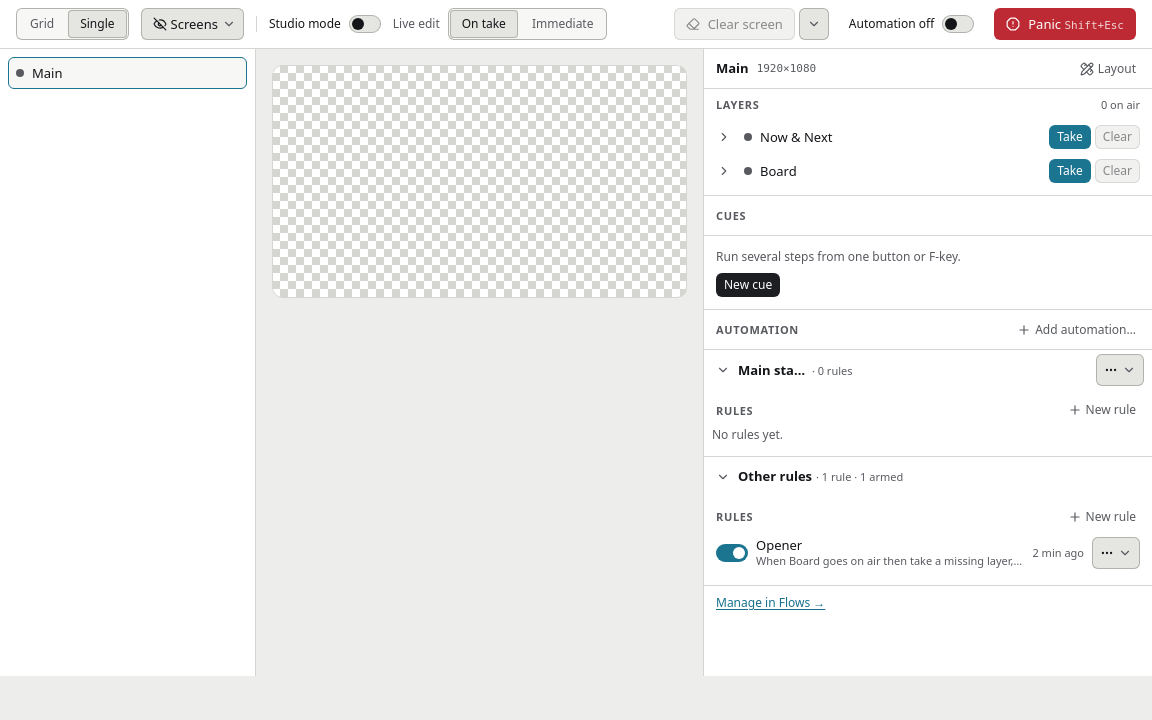
linear editor › Cancel discards; a missing target is a warning, not an error
Expected: the button "Main stage · 0 rules" is shown, [712, 354, 1092, 386]
Click the button named "Actions for Opener" at (1116, 553), box [1092, 537, 1140, 569]
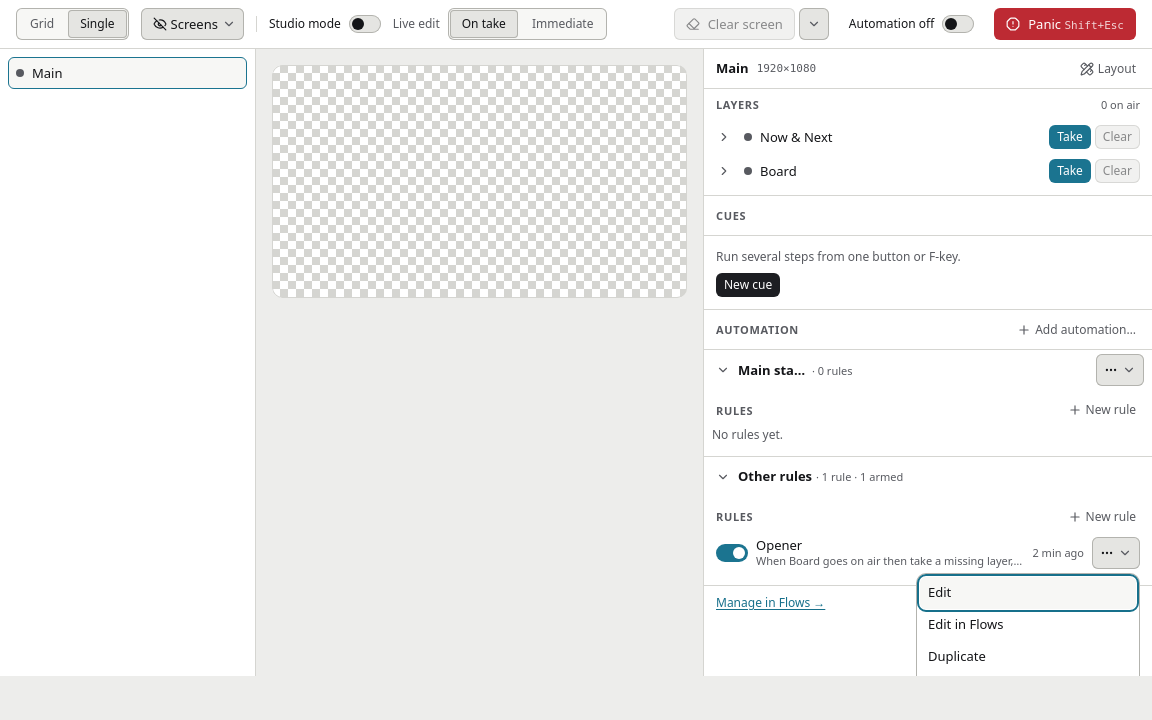
Click the menu item "Edit" at (1028, 593), box [920, 577, 1136, 609]
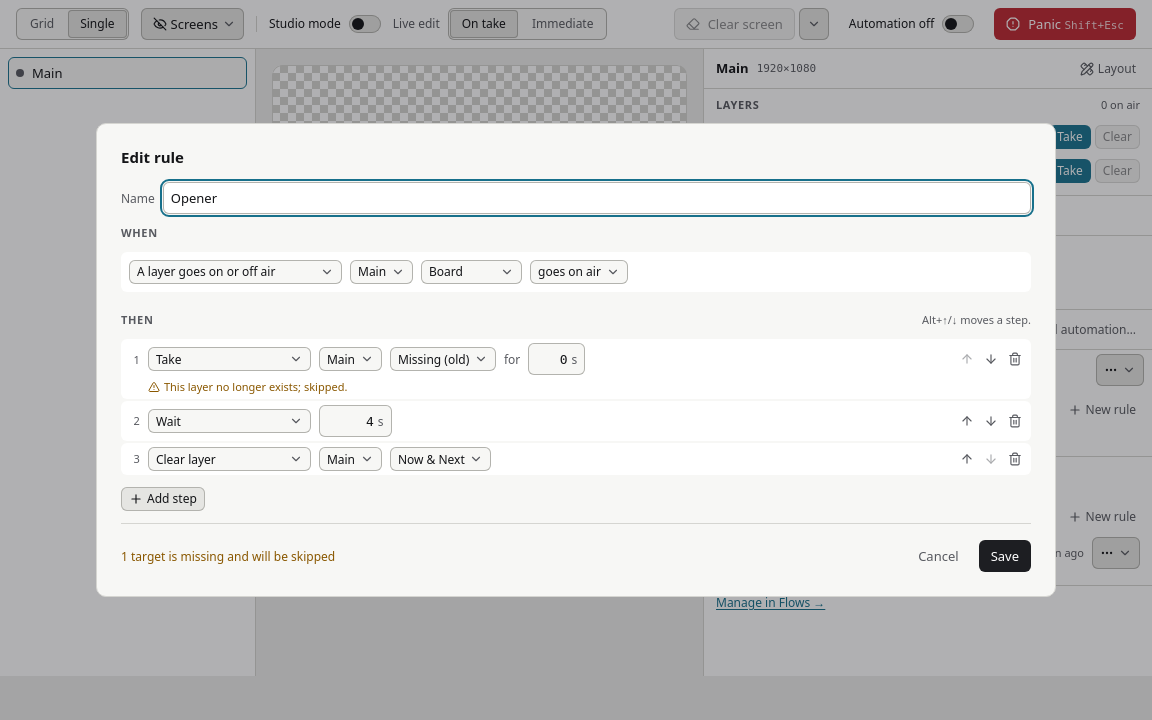
Expected: the text "This layer no longer exists; skipped." is shown, [148, 380, 347, 394]
Expected: the text "1 target is missing and will be skipped" is shown, [121, 548, 335, 565]
Expected: the button "Save" is enabled, [979, 540, 1031, 572]
Click the button "Cancel" at (938, 556), box [906, 540, 971, 572]
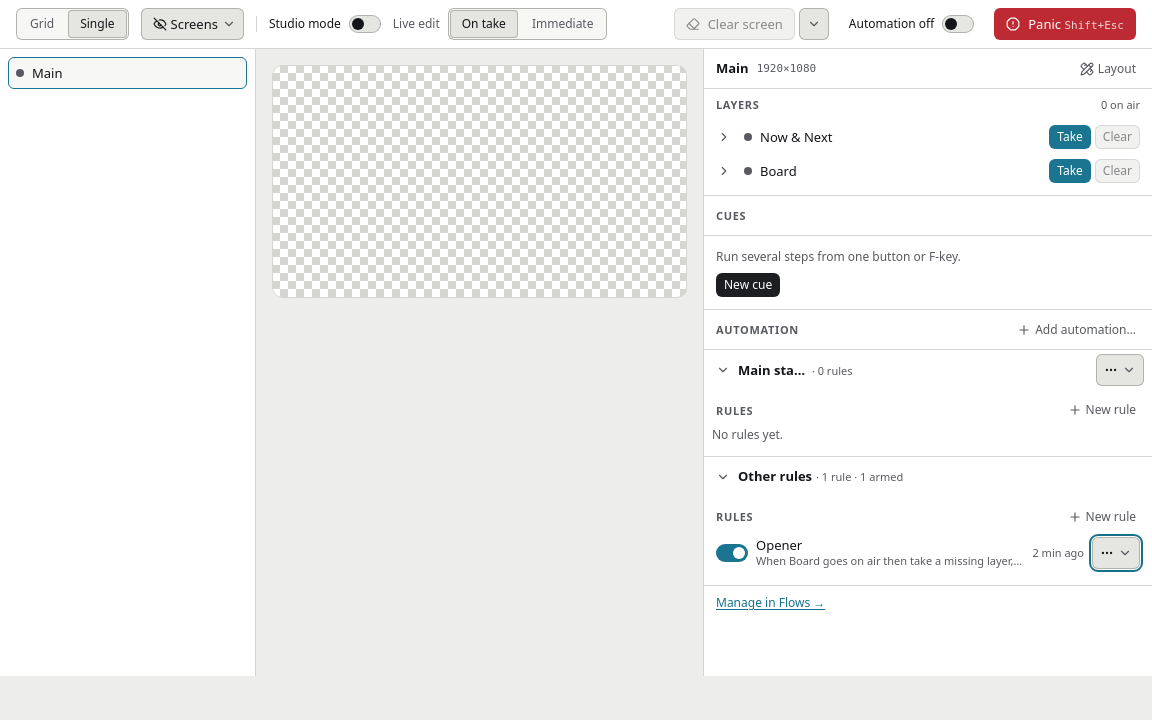
Expected: the heading "Edit rule" is gone
